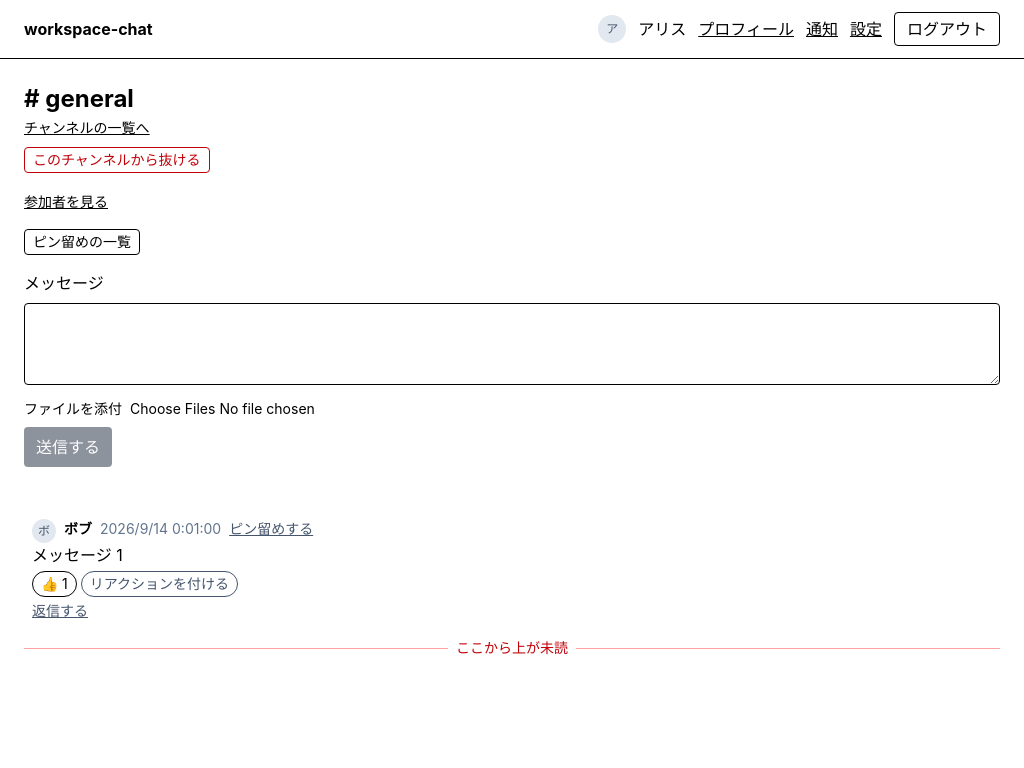
Test case: リアクションの付け外し（F-18） › 付けるのが channel_archived で断られたら理由を出す
The width and height of the screenshot is (1024, 768).
Click the button named "👍 1人".
click(54, 584)  # box left=32, top=571, right=77, bottom=597
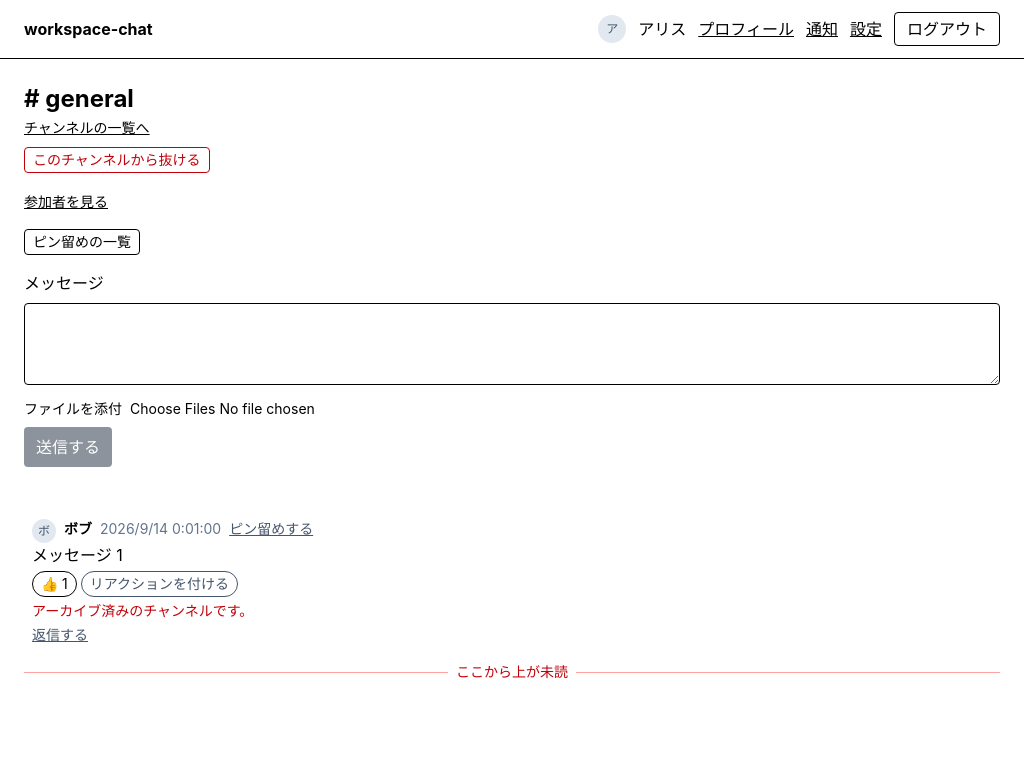
expect the message "アーカイブ済みのチャンネルです。" is shown: met, box left=32, top=602, right=253, bottom=619
